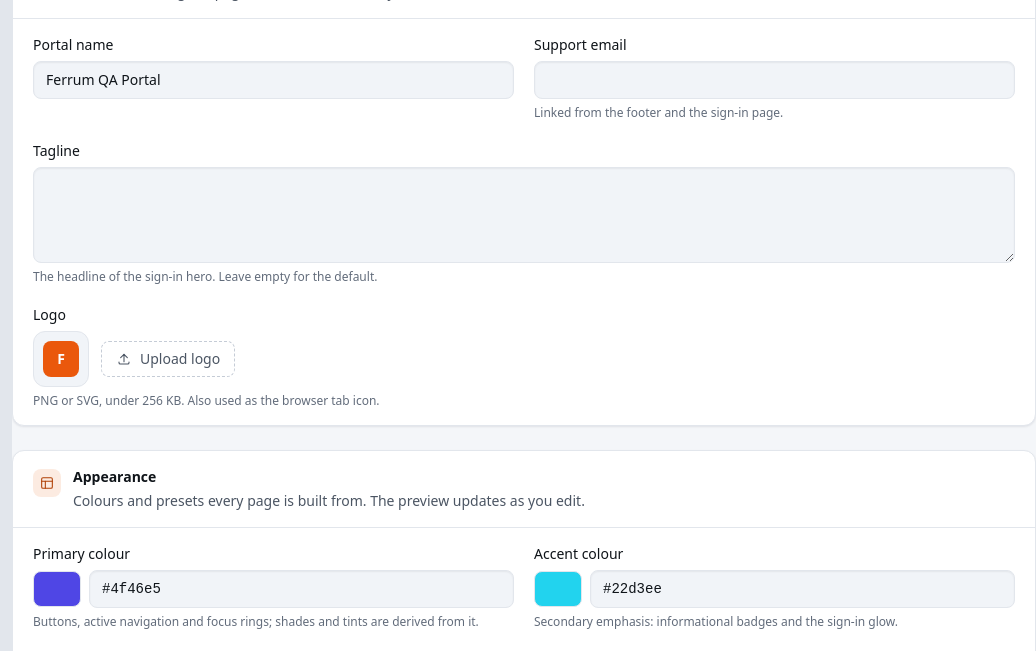
Test: branding colour validation › blocks five-digit hex before any request
Replace the text in the field named "Primary colour hex value" with "#12345" at (302, 589), box x1=89 y1=570 x2=514 y2=608
(page scrolled)
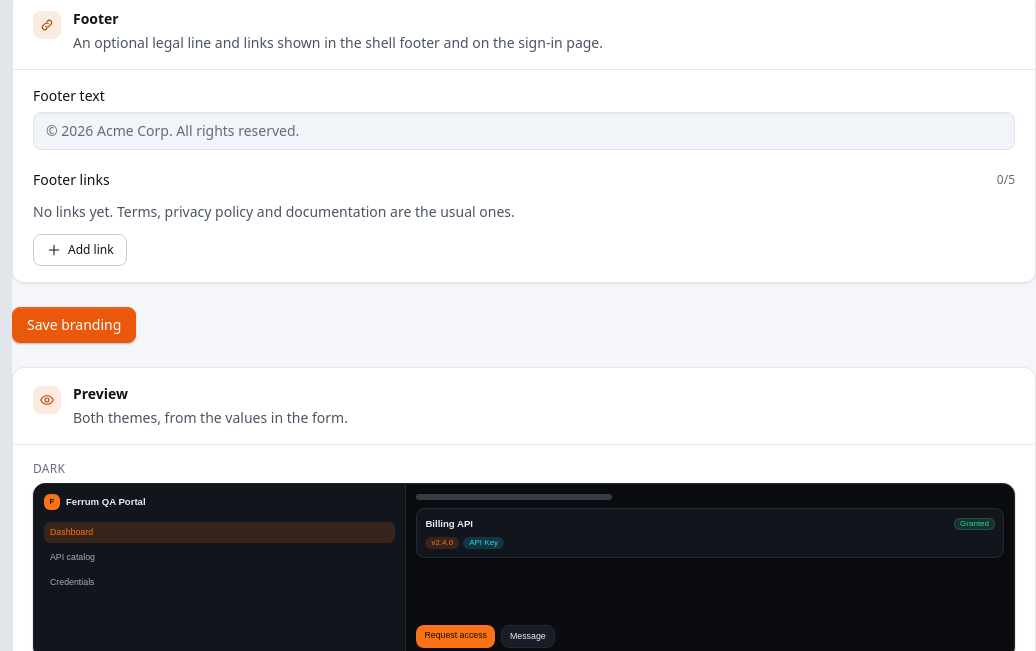
Click the button "Save branding" at (74, 325), box x1=12 y1=307 x2=136 y2=343
(page scrolled)
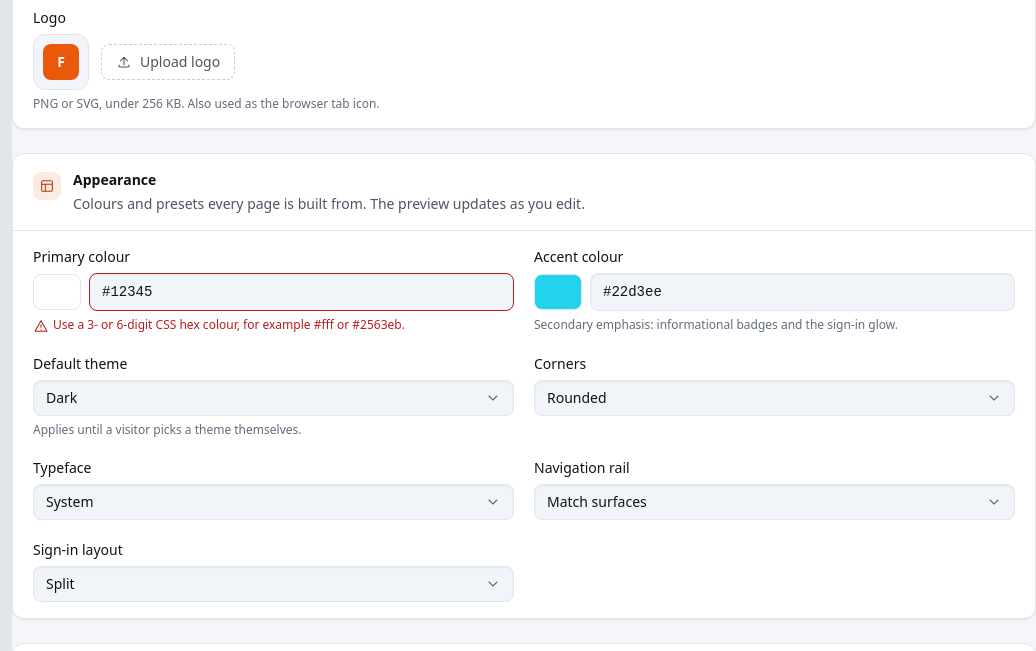
Now the message shows "3- or 6-digit CSS hex", box x1=53 y1=316 x2=405 y2=333
